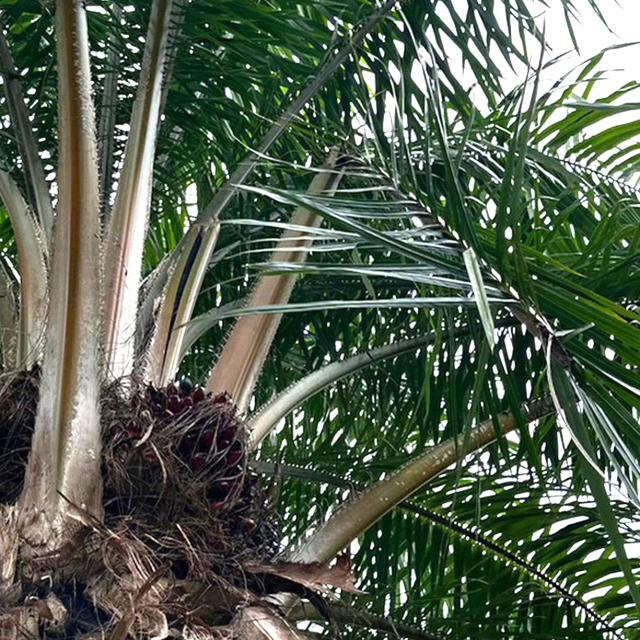ripe: (113, 375, 270, 533)
